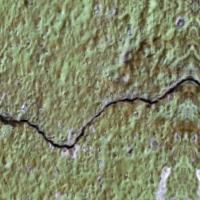crack: (0, 62, 199, 152)
